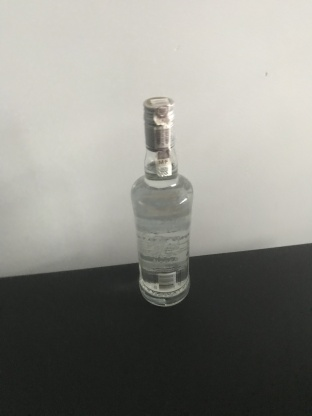nakretka: (141, 95, 176, 153)
